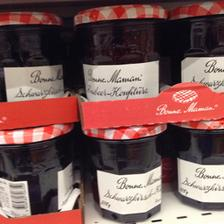Marmelade: (73, 2, 167, 99), (82, 127, 166, 221), (0, 124, 76, 218), (0, 10, 70, 98), (167, 0, 223, 92), (173, 118, 223, 210)
